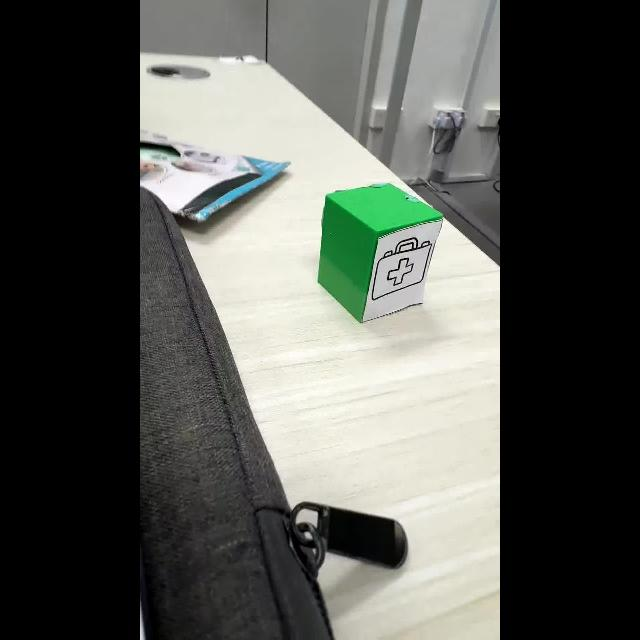Medkit: (371, 238, 432, 300)
